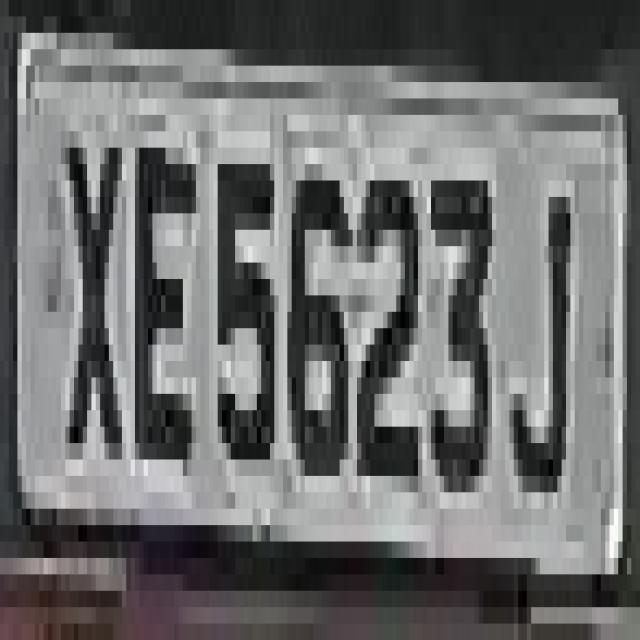2: (348, 148, 422, 525)
3: (422, 82, 501, 509)
5: (205, 99, 292, 525)
6: (278, 164, 352, 492)
E: (122, 82, 205, 558)
J: (518, 115, 579, 541)
X: (52, 66, 126, 476)
